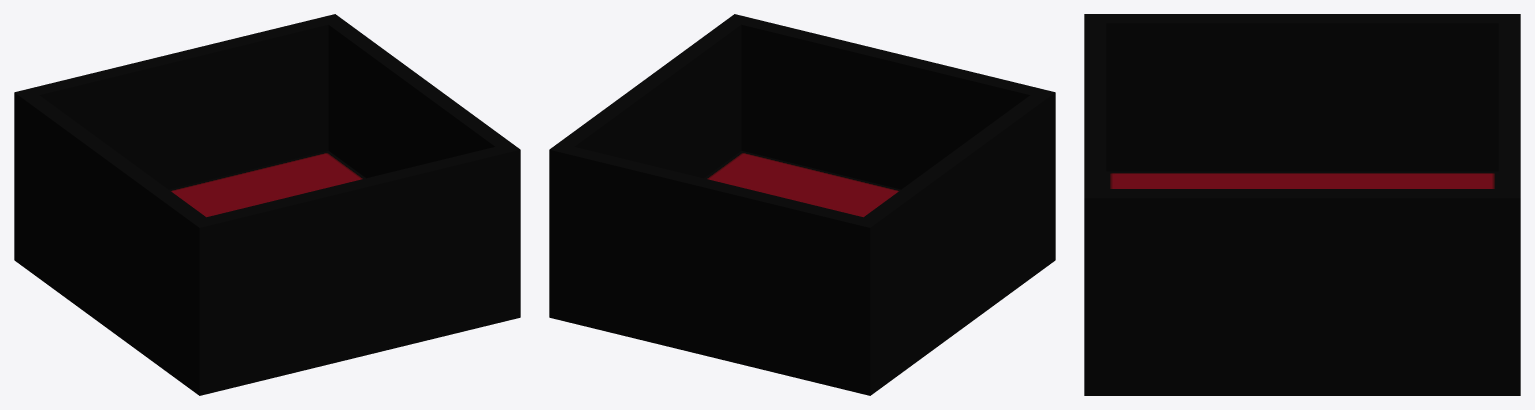
File: board.glb
3 views of the same model, side by side, from view 1: azimuth 30°, elevation 25°; view 2: azimuth 150°, elevation 25°; view 3: azimuth 270°, elevation 25° (orthographic). The views are drawn at different scales.
Parts seen in each view (by area): view 1: Cube; view 2: Cube; view 3: Cube.
Part boxes in pixels (x1,y1,x2,y2): Cube: (14, 14, 520, 395); Cube: (549, 14, 1055, 395); Cube: (1084, 14, 1520, 395).
Size of the model in its own units: 6 by 3 by 6.
1 material, 1 textured.
